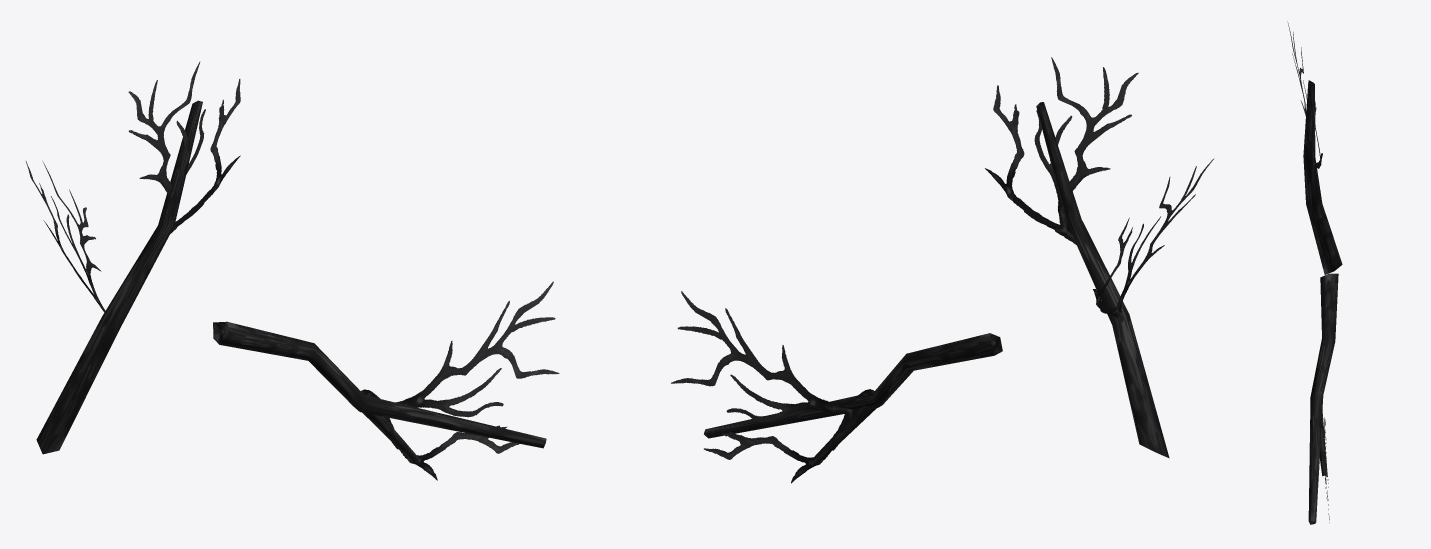
File: env_clutter_burntbranches.fbx
3 views of the same model, side by side, from view 1: azimuth 30°, elevation 25°; view 2: azimuth 150°, elevation 25°; view 3: azimuth 270°, elevation 25° (orthographic). The views are drawn at different scales.
Visible parts, largest first — view 1: branches4; view 2: branches4; view 3: branches4.
Part boxes in pixels (x1,y1,x2,y2): branches4: [26, 61, 559, 480]; branches4: [671, 57, 1214, 483]; branches4: [1287, 22, 1342, 524].
Size of the model in its own units: 12.84 by 12.27 by 4.37.
